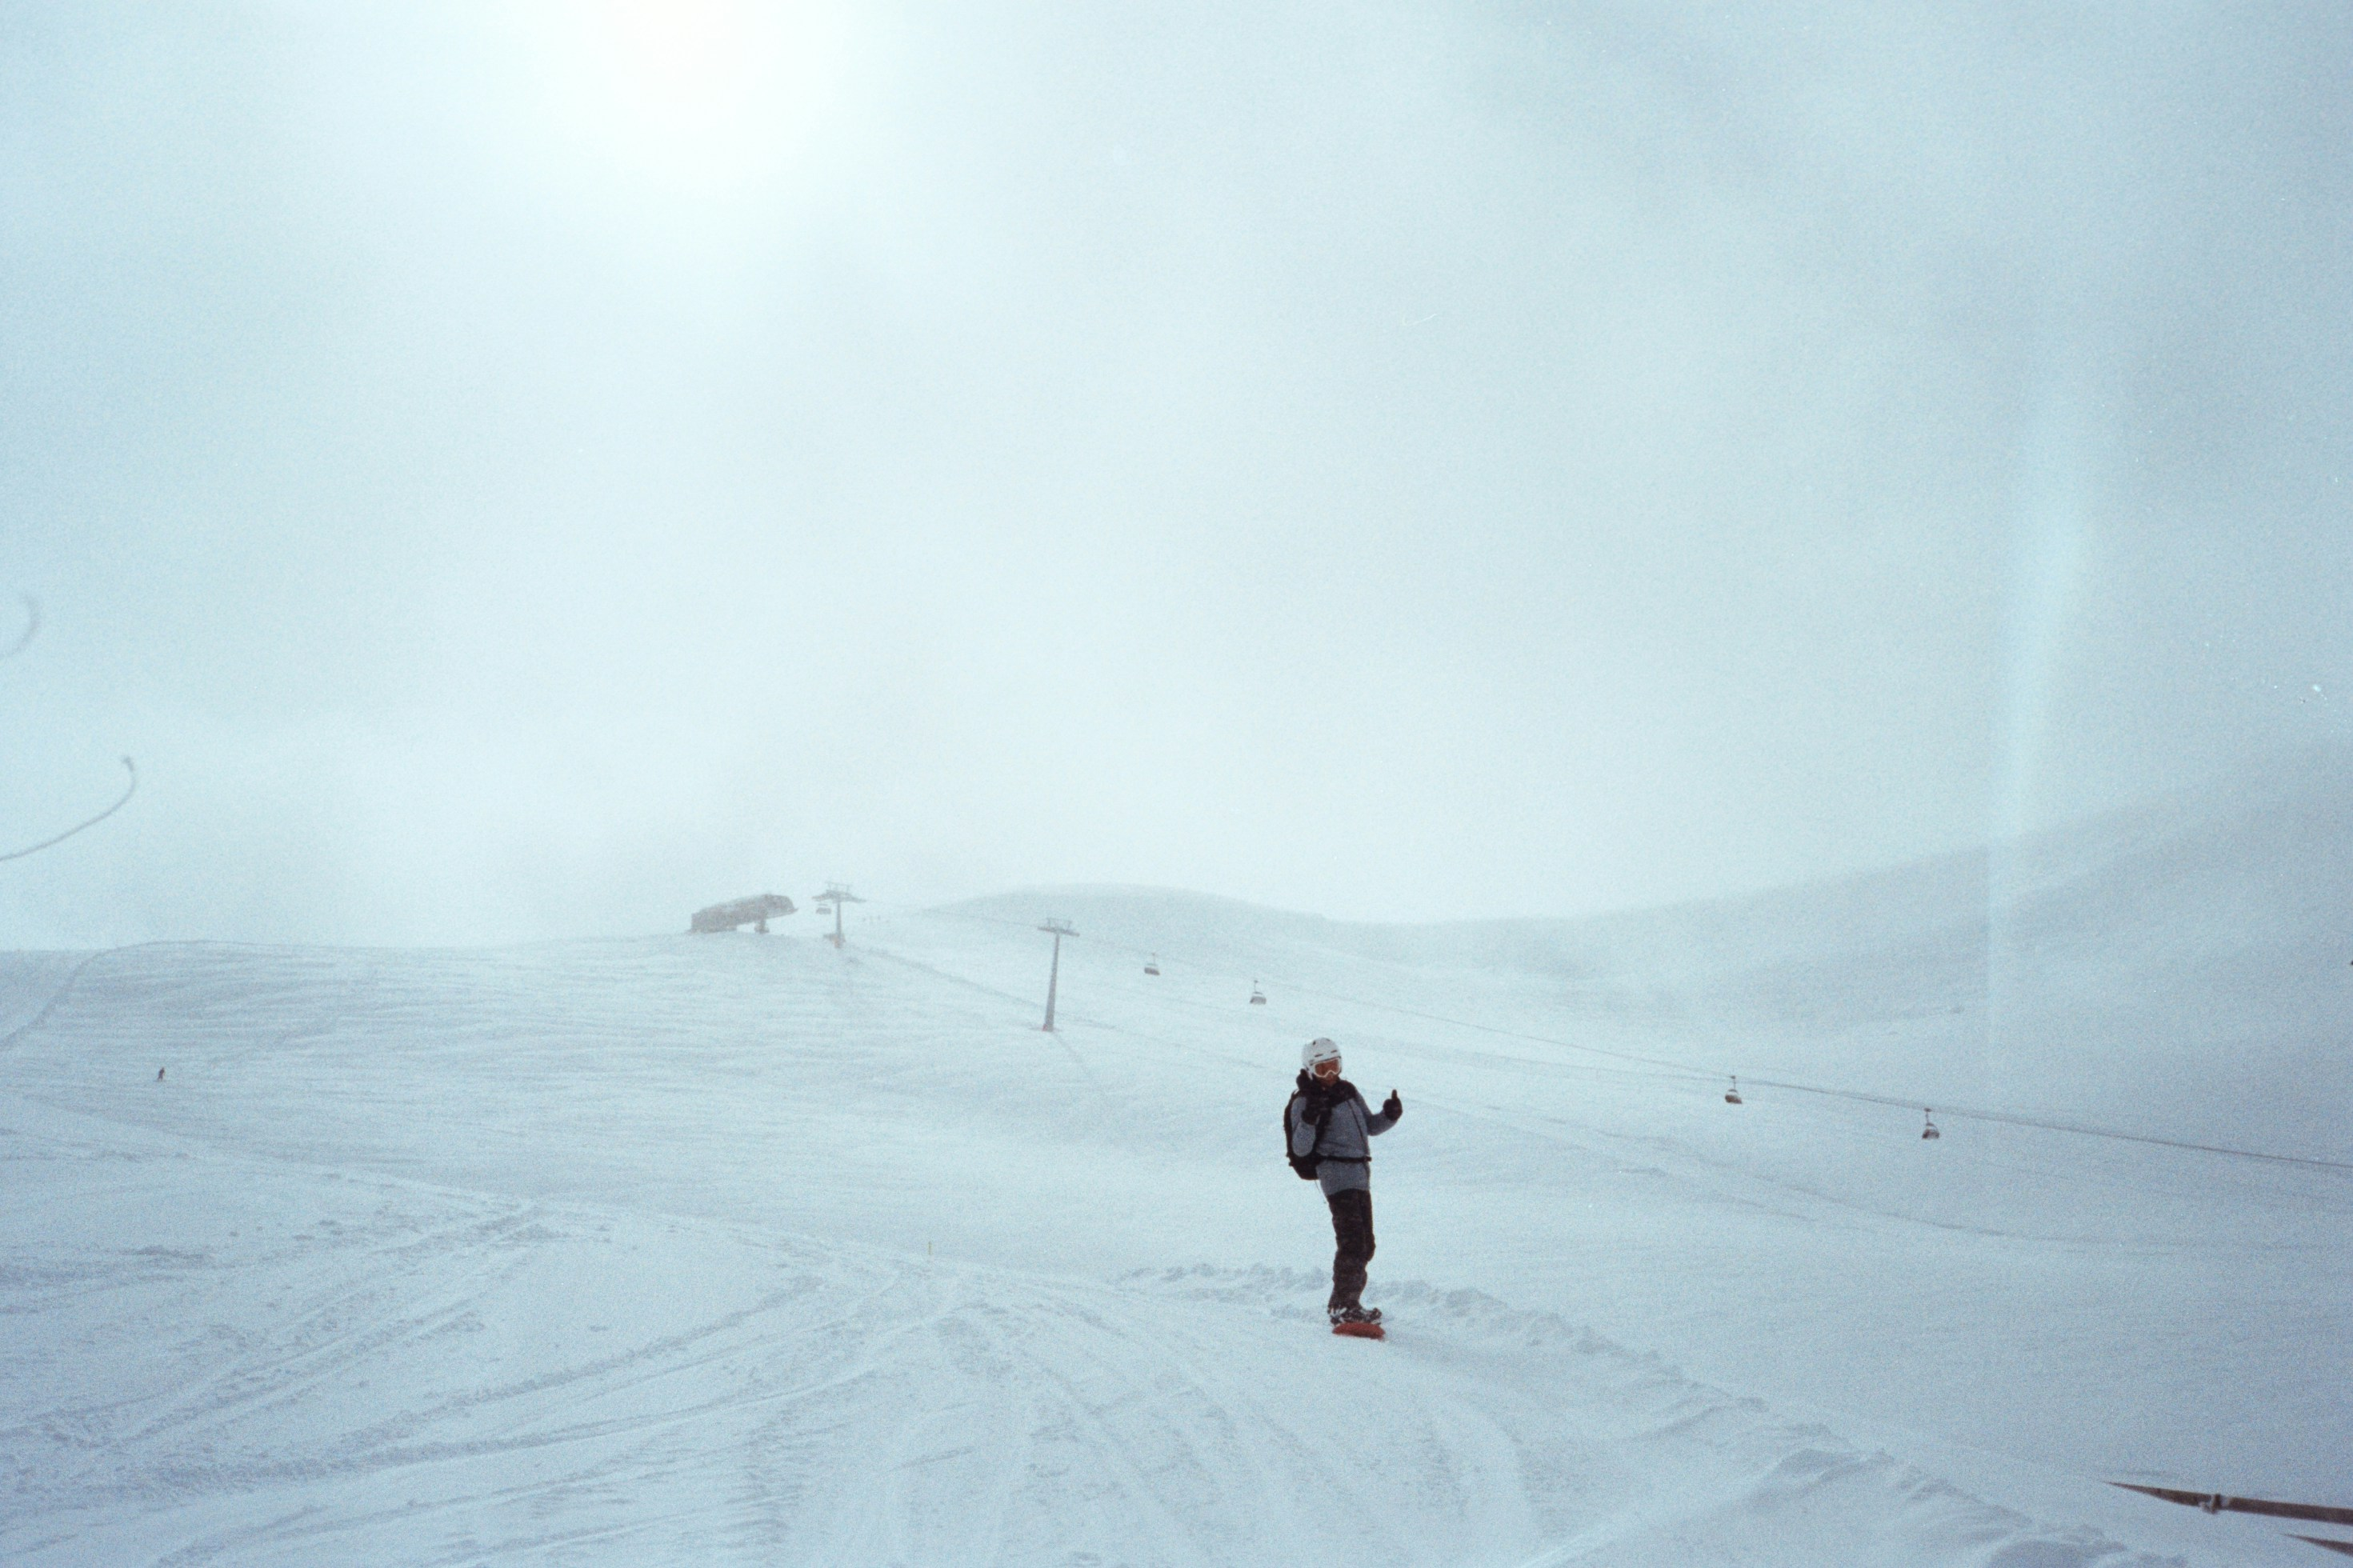snowboarder: (1239, 1011, 1438, 1346)
